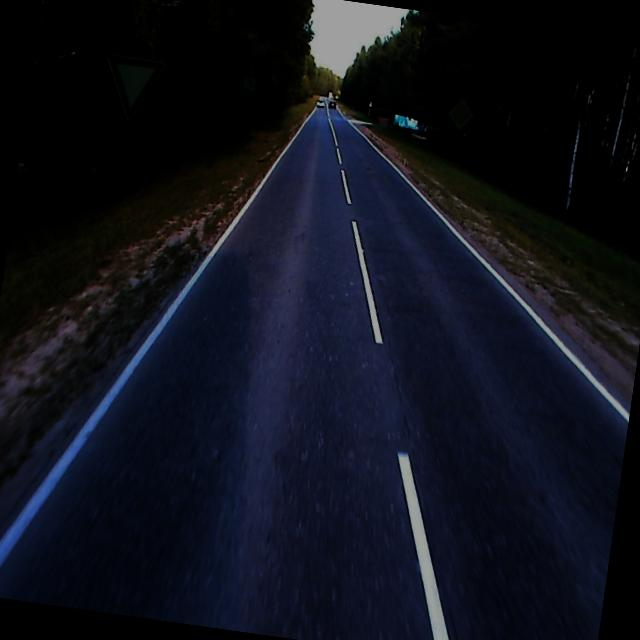road: (0, 98, 630, 640)
